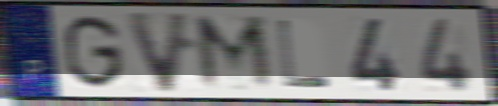4: (347, 14, 405, 95), (417, 15, 474, 95)
G: (63, 12, 127, 91)
L: (273, 17, 334, 90)
M: (191, 13, 280, 94)
V: (122, 9, 197, 96)
